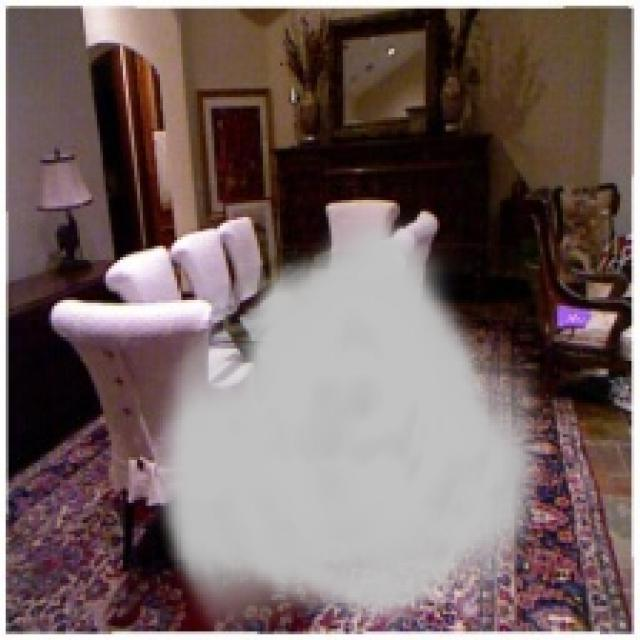smoke: (152, 208, 554, 632)
